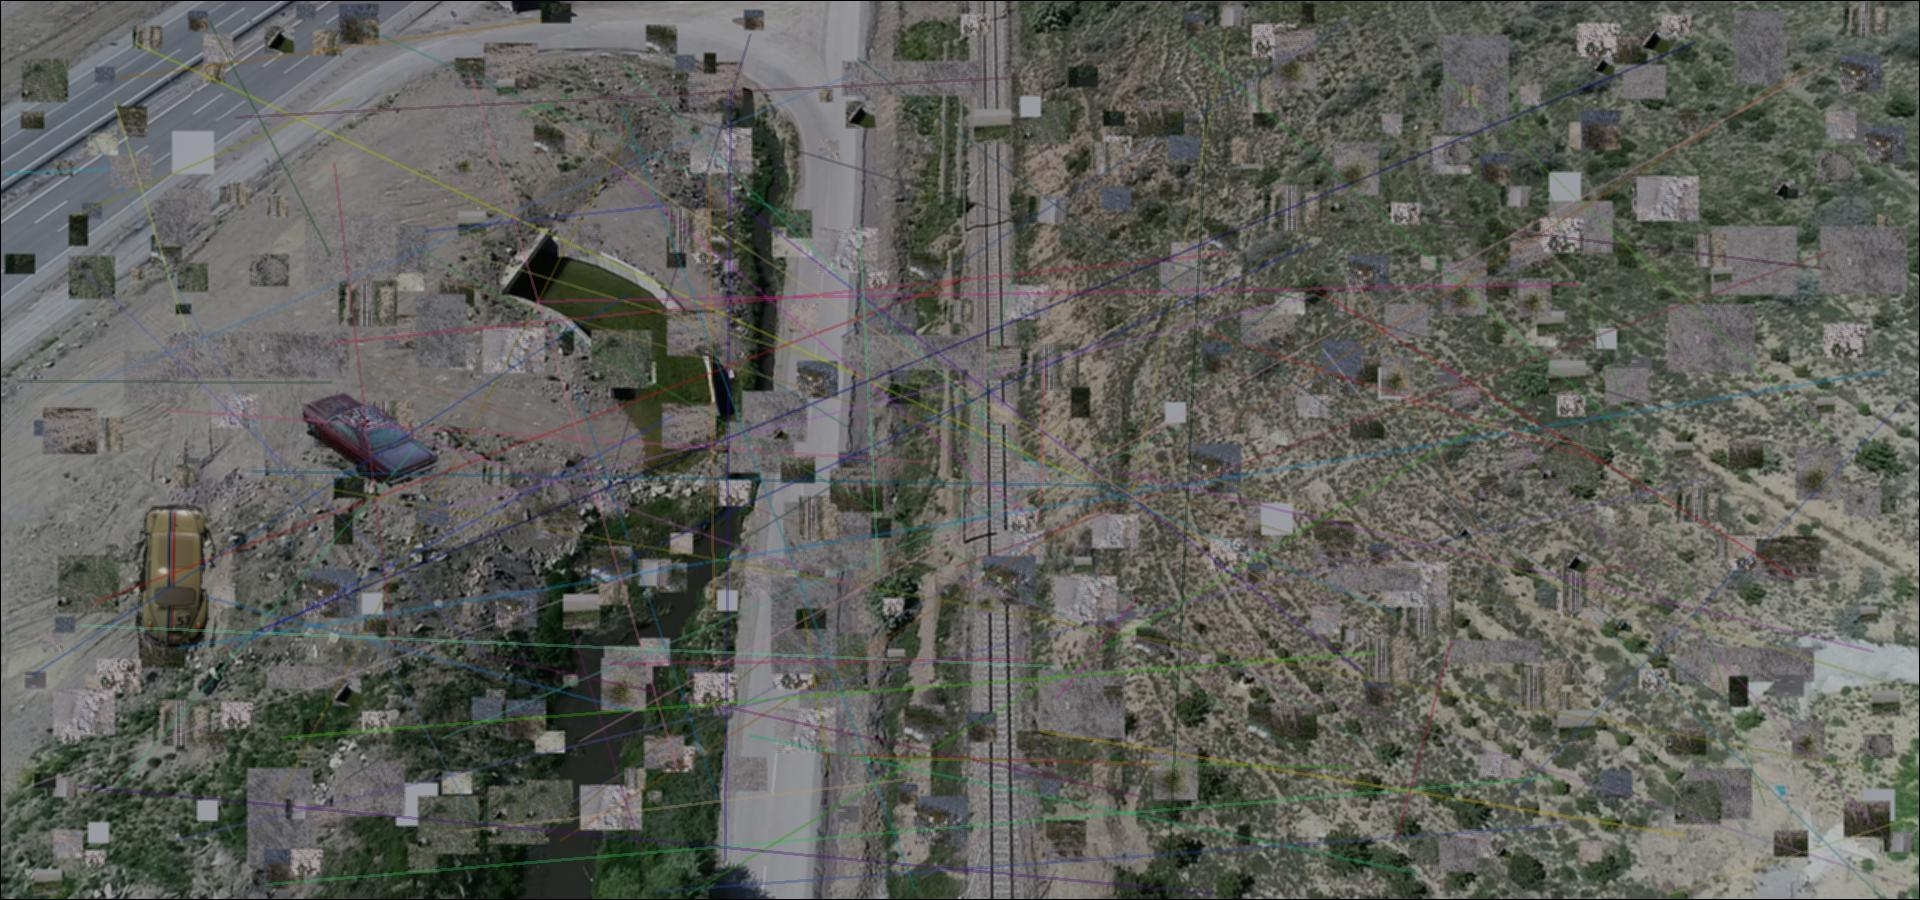arac: (294, 382, 443, 489), (133, 504, 216, 648)
